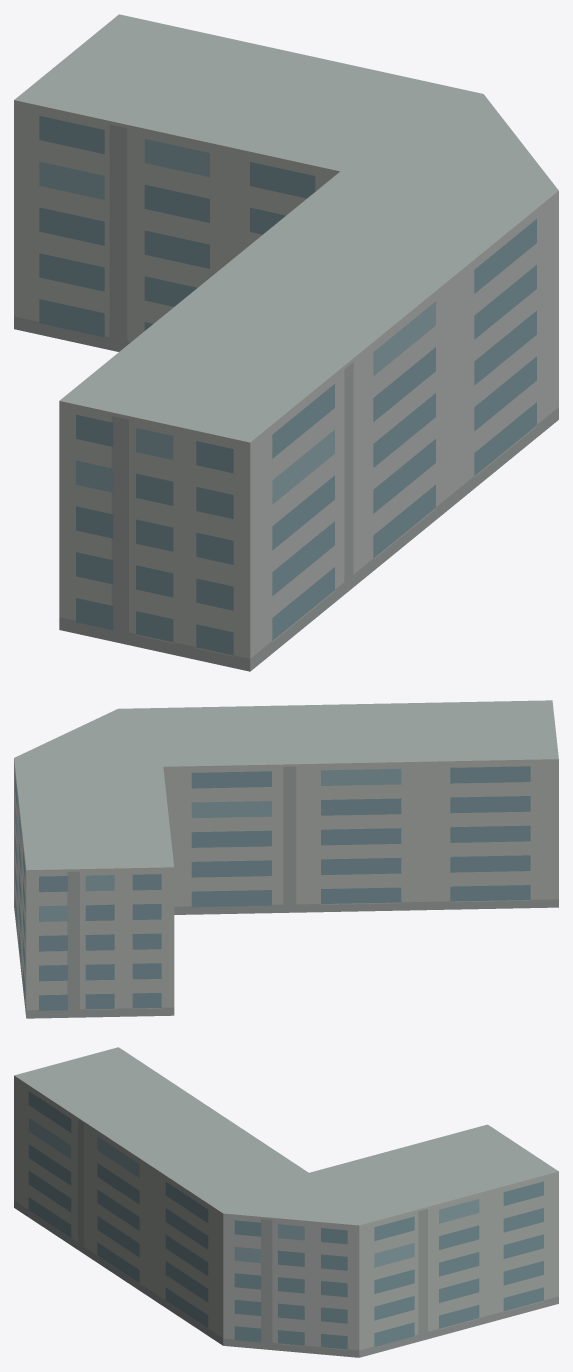
The model's file is residential-eb6a0ef8-7cd8-48da-84d9-13b4b4bb912d.glb.
3 renders of one model, top to bottom at view 1: azimuth 30°, elevation 25°; view 2: azimuth 150°, elevation 25°; view 3: azimuth 270°, elevation 25°, orthographic. The views are drawn at different scales.
Parts seen in each view (by area): view 1: residential-eb6a0ef8-7cd8-48da-84d9-13b4b4bb912d.tmp; view 2: residential-eb6a0ef8-7cd8-48da-84d9-13b4b4bb912d.tmp; view 3: residential-eb6a0ef8-7cd8-48da-84d9-13b4b4bb912d.tmp.
Part boxes in pixels (<box>): residential-eb6a0ef8-7cd8-48da-84d9-13b4b4bb912d.tmp: <box>14,14,558,671</box>; residential-eb6a0ef8-7cd8-48da-84d9-13b4b4bb912d.tmp: <box>14,700,558,1018</box>; residential-eb6a0ef8-7cd8-48da-84d9-13b4b4bb912d.tmp: <box>14,1047,558,1357</box>.
Size of the model in its own units: 44.08 by 15.25 by 56.92.
